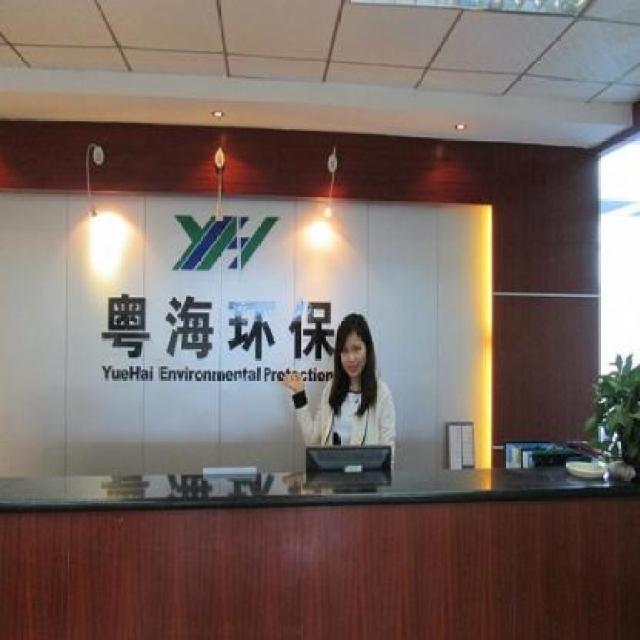frontdesk: (0, 452, 640, 640)
